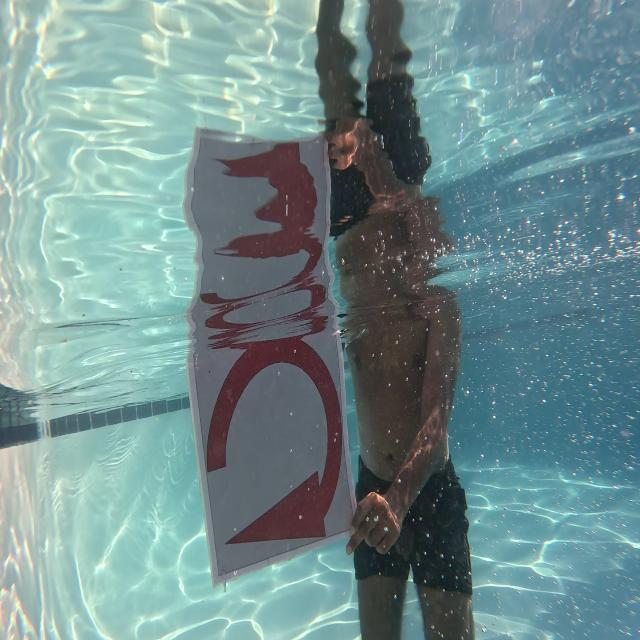red_side: (188, 333, 358, 559)
